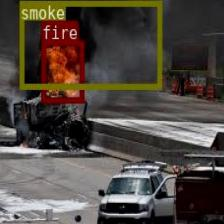fire: (41, 40, 83, 101)
smoke: (18, 0, 161, 88)
